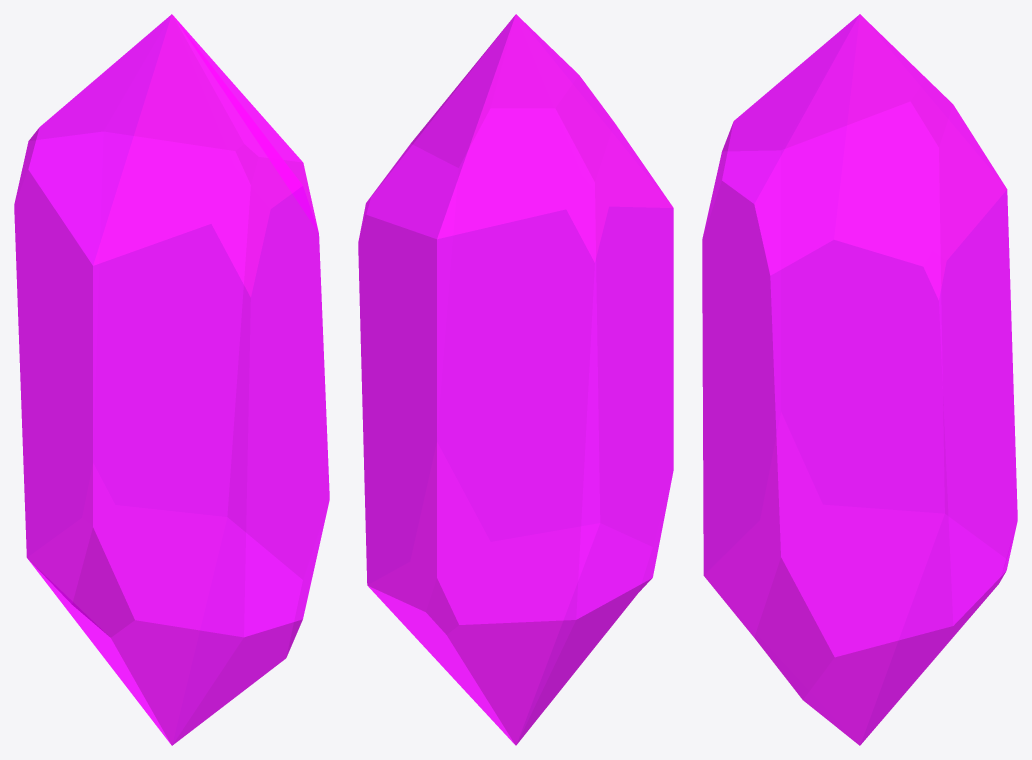
The picture shows the model from 3 angles, left to right: view 1: azimuth 30°, elevation 25°; view 2: azimuth 150°, elevation 25°; view 3: azimuth 270°, elevation 25°; orthographic projection.
Parts seen in each view (by area): view 1: GemFull_0; view 2: GemFull_0; view 3: GemFull_0.
Boxes of the visible parts, x1,y1,x2,y2 form: GemFull_0: [14, 14, 329, 745]; GemFull_0: [358, 14, 673, 745]; GemFull_0: [702, 14, 1017, 745].
Size of the model in its own units: 0.8388 by 2.48 by 0.9686.
